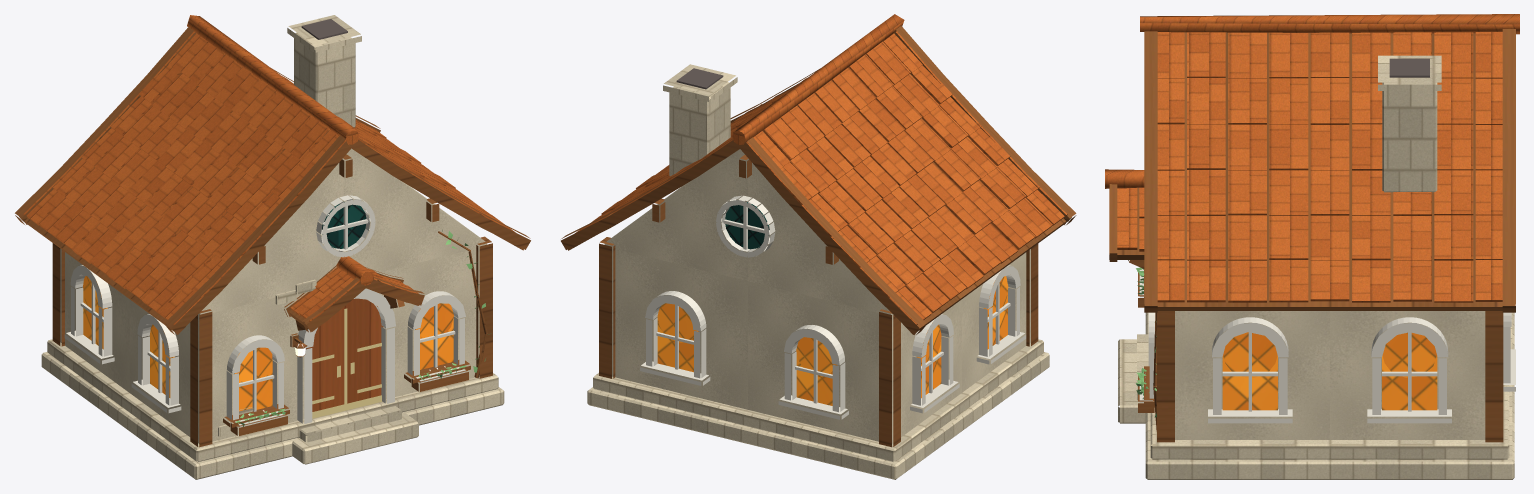
Rendered from cottage-clay.glb.
The picture shows the model from 3 angles, left to right: view 1: azimuth 30°, elevation 25°; view 2: azimuth 150°, elevation 25°; view 3: azimuth 270°, elevation 25°; orthographic projection. The views are drawn at different scales.
Visible parts, largest first — view 1: cottage-clay; view 2: cottage-clay; view 3: cottage-clay.
Boxes of the visible parts, x1=… form: cottage-clay: x1=15, y1=15, x2=530, y2=479; cottage-clay: x1=561, y1=14, x2=1076, y2=479; cottage-clay: x1=1105, y1=14, x2=1519, y2=479.
Bounding box in the file's own units: 6.87 × 5.71 × 5.72.
Materials: 13 (7 with a texture image).
